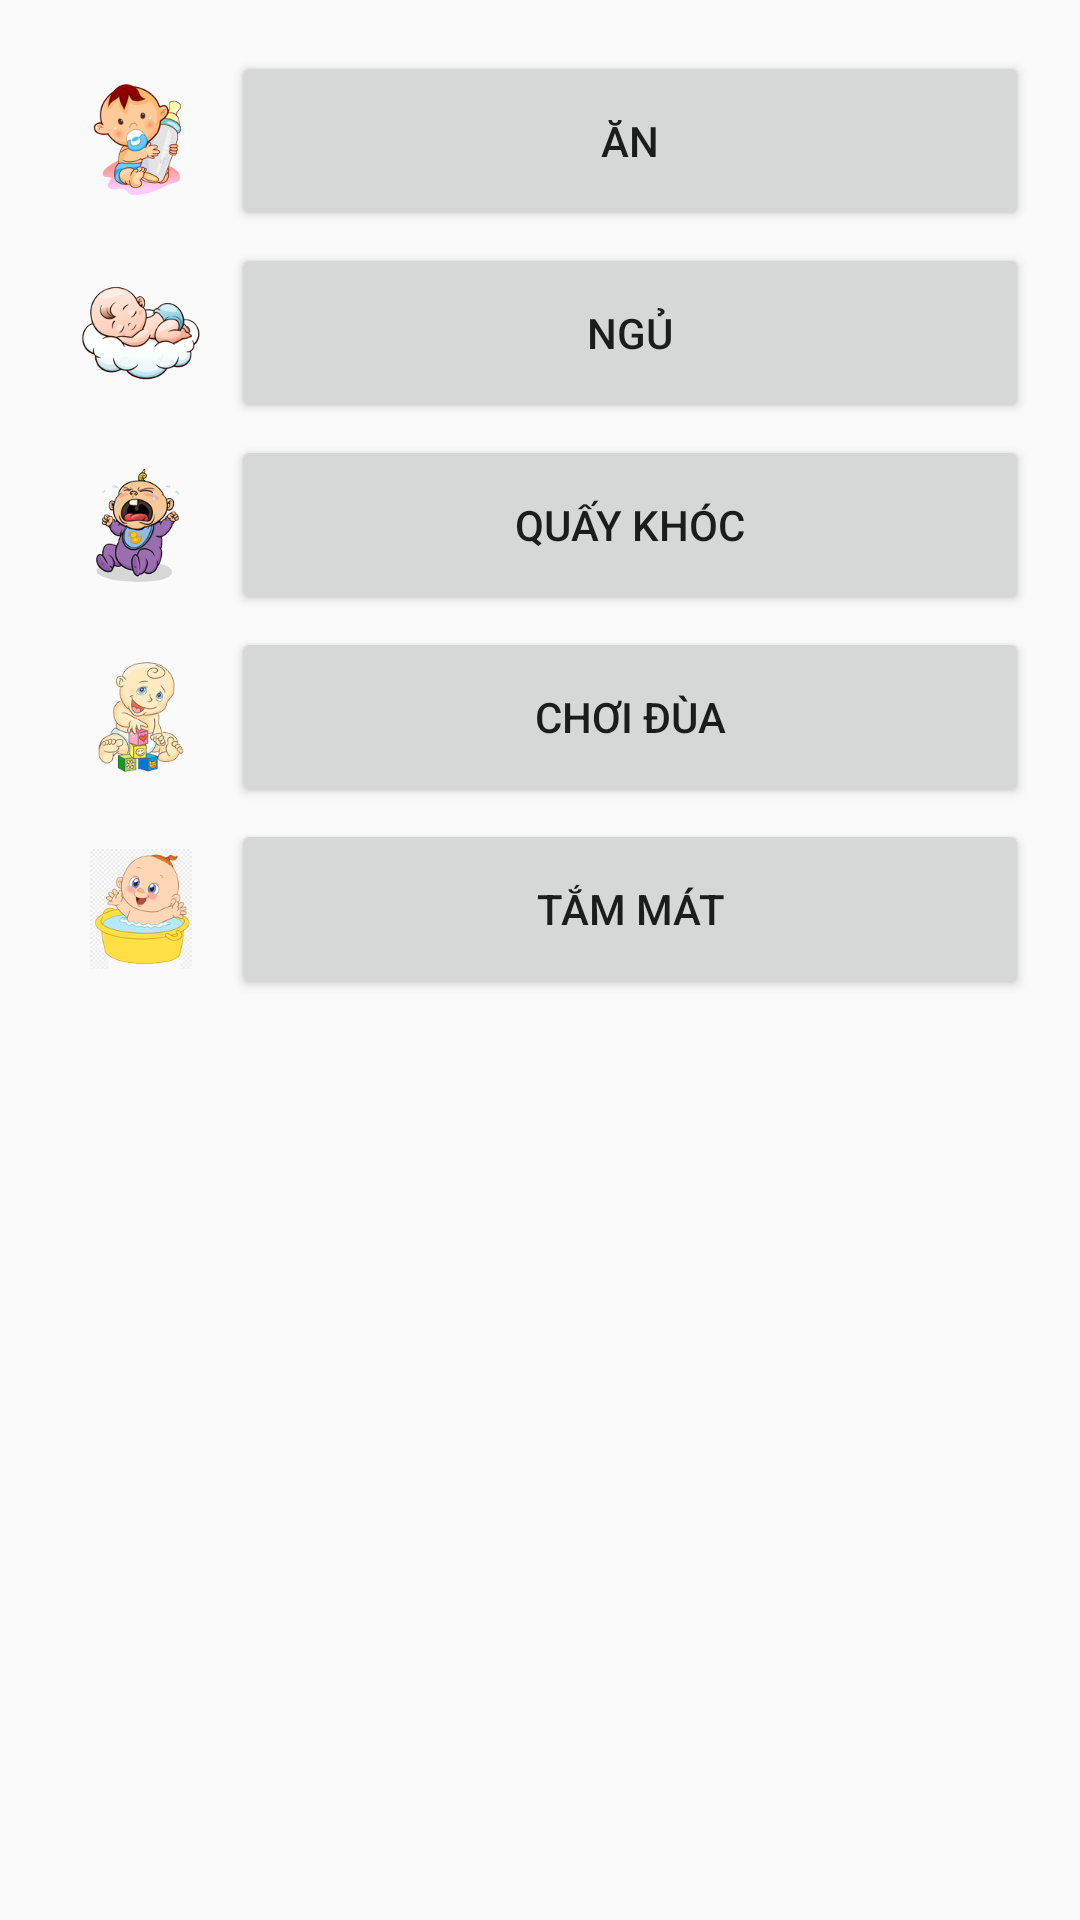

Icons on this 1080w x 1920h Android screen, each with the point to tap as (x,y):
bath: (142,909)
cry: (137,525)
drink: (137,139)
sleep: (141,333)
